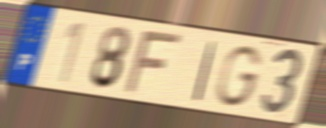1: (58, 21, 87, 85)
3: (259, 46, 306, 119)
8: (87, 24, 132, 91)
F: (121, 29, 186, 96)
G: (213, 44, 265, 110)
I: (191, 39, 218, 104)
